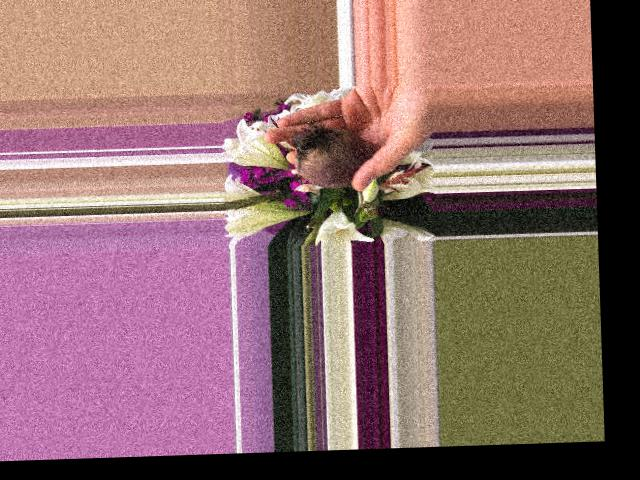beet: (291, 125, 373, 218)
